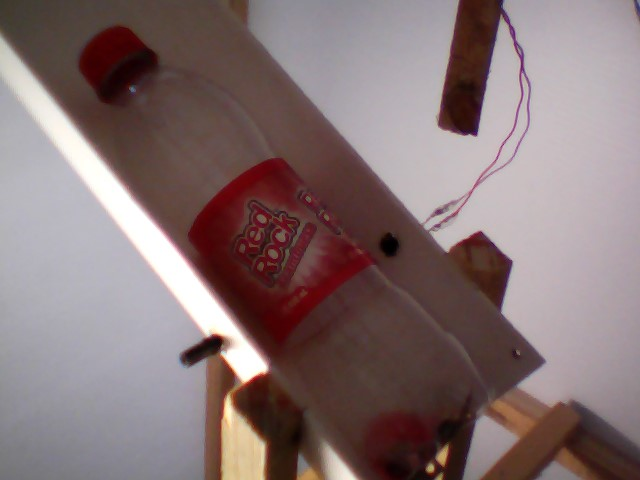plastico: (70, 14, 505, 478)
